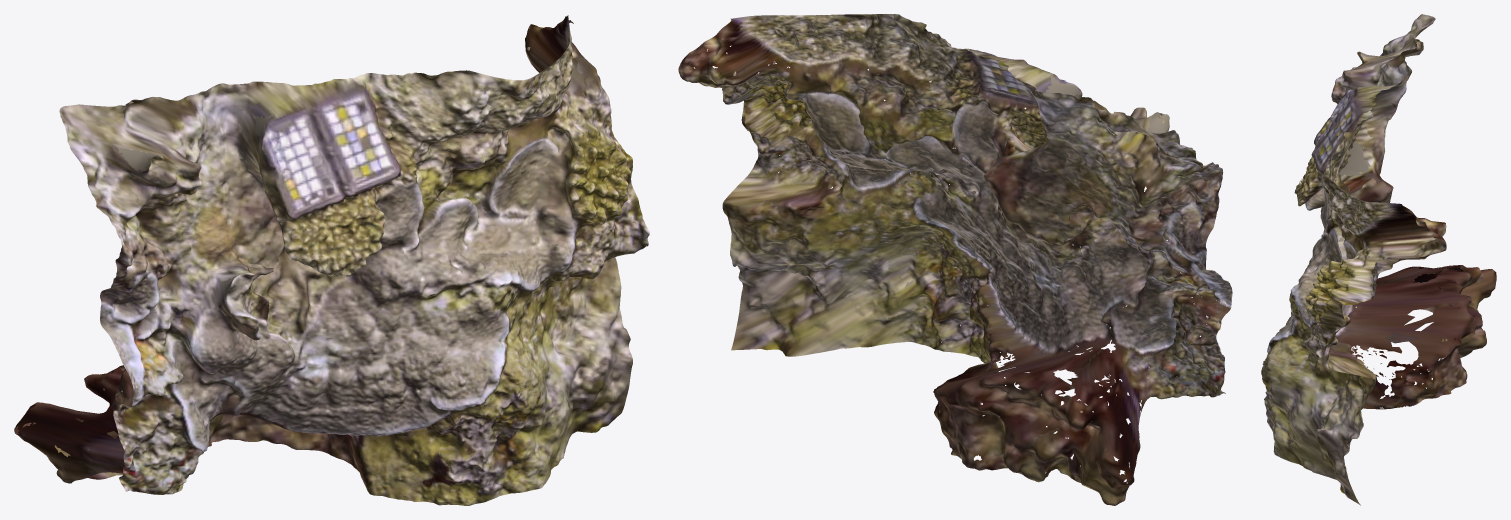
Rendered from echinopora_lamellosa_colony.glb.
3 views of the same model, side by side, from view 1: azimuth 30°, elevation 25°; view 2: azimuth 150°, elevation 25°; view 3: azimuth 270°, elevation 25° (orthographic). The views are drawn at different scales.
Bounding box in the file's own units: 41.63 × 30.12 × 21.49.
Materials: 2 (2 with a texture image).
